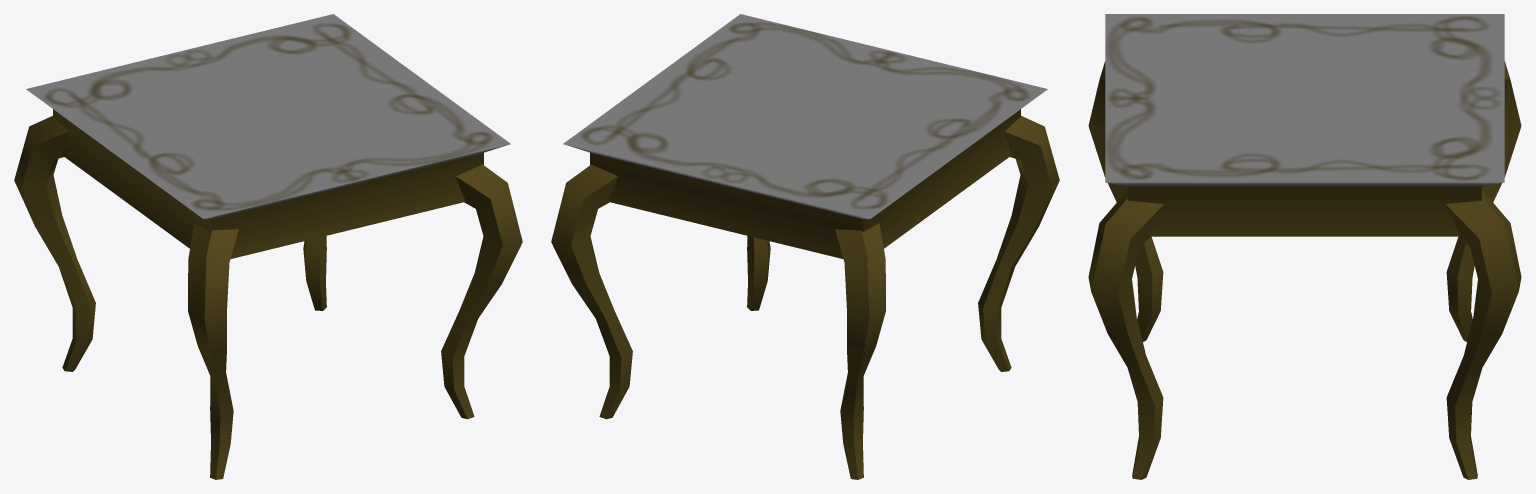
Rendered from 05 mesa.obj.
3 renders of one model, left to right at view 1: azimuth 30°, elevation 25°; view 2: azimuth 150°, elevation 25°; view 3: azimuth 270°, elevation 25°, orthographic. The views are drawn at different scales.
Parts seen in each view (by area): view 1: pCube1, sweep2; view 2: pCube1, sweep2; view 3: pCube1, sweep2.
Boxes of the visible parts, x1,y1,x2,y2 form: pCube1: [26, 14, 510, 258]; sweep2: [14, 116, 522, 479]; pCube1: [563, 14, 1047, 258]; sweep2: [551, 116, 1059, 479]; pCube1: [1105, 14, 1504, 236]; sweep2: [1088, 61, 1521, 479].
Size of the model in its own units: 86.37 by 69.69 by 88.
2 materials, 2 textured.
